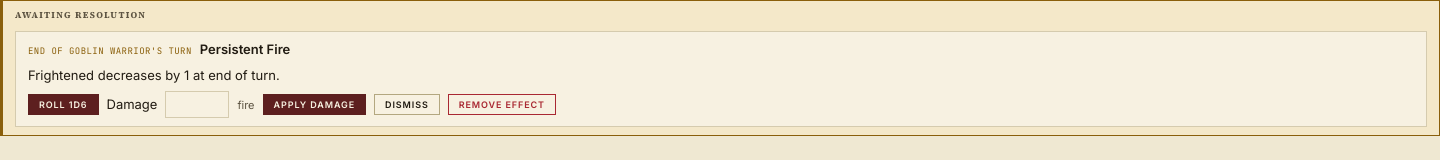
Test: CombatantPromptResolution › persistent-damage prompts › Roll fills the damage field with a deterministic value
expect the number field named "Damage amount for Persistent Fire" is empty: met, box [165,91,229,118]
Click the button "Roll 1d6" at [63, 105], box [28,94,98,115]
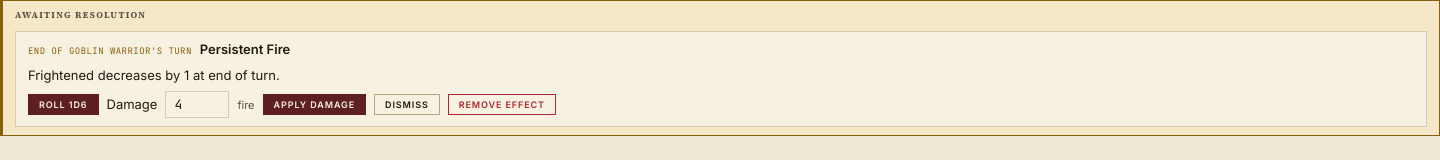
expect the number field named "Damage amount for Persistent Fire" holds "4": met, box [165,91,229,118]
